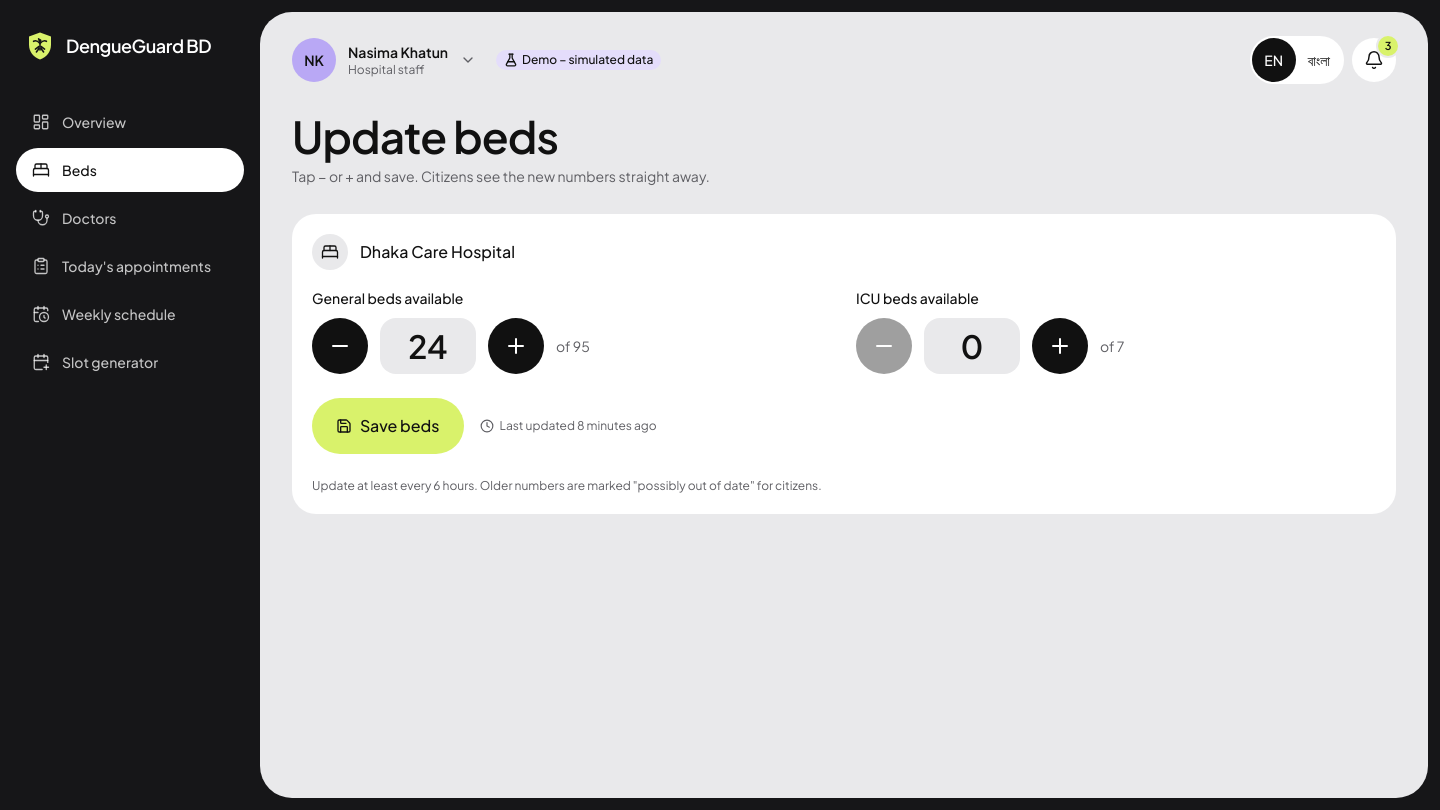
Test case: hospital bed update screen › updates beds in one tap + Save, and blocks values over the total
The image size is (1440, 810).
Click the button named "Increase ICU beds available" at {"x": 1060, "y": 346}, box [1032,318,1088,374]
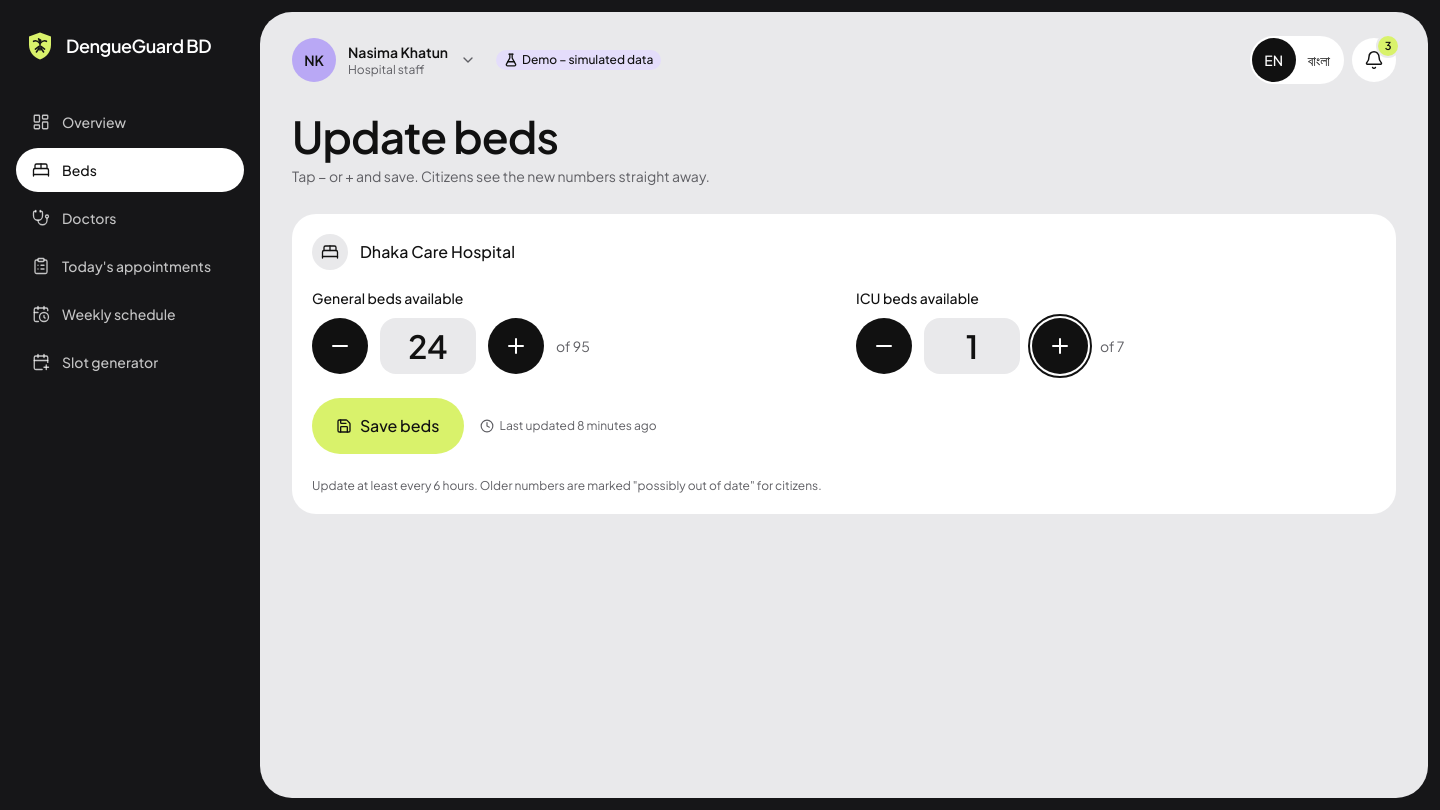
Now the field labelled "ICU beds available" holds "1", box [924,318,1020,374]
Click the button "Save beds" at {"x": 388, "y": 426}, box [312,398,464,454]
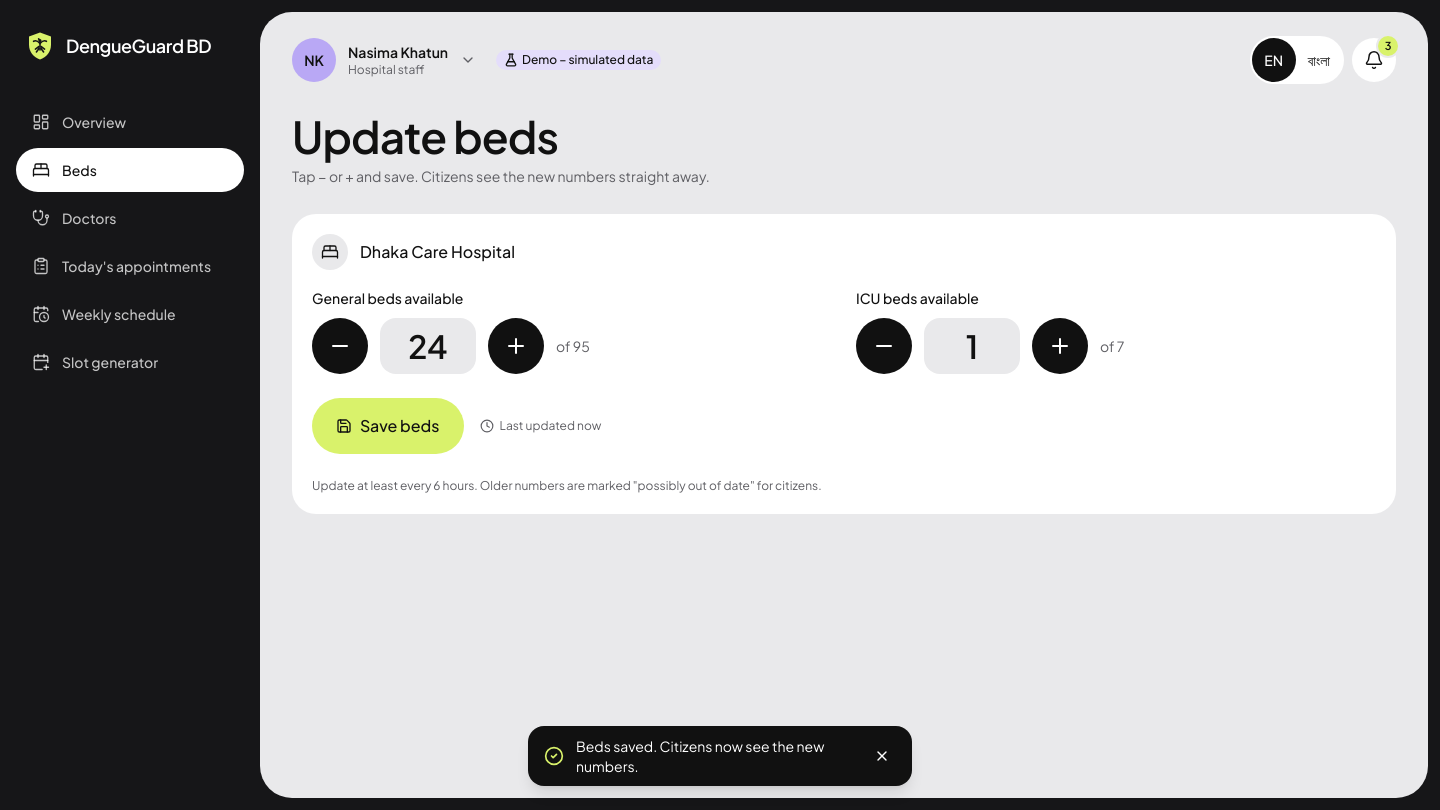
Now the text "Beds saved. Citizens now see the new numbers." is shown, box [576,736,848,776]
Replace the text in the field labelled "General beds available" with "9999" at {"x": 428, "y": 346}, box [380,318,476,374]
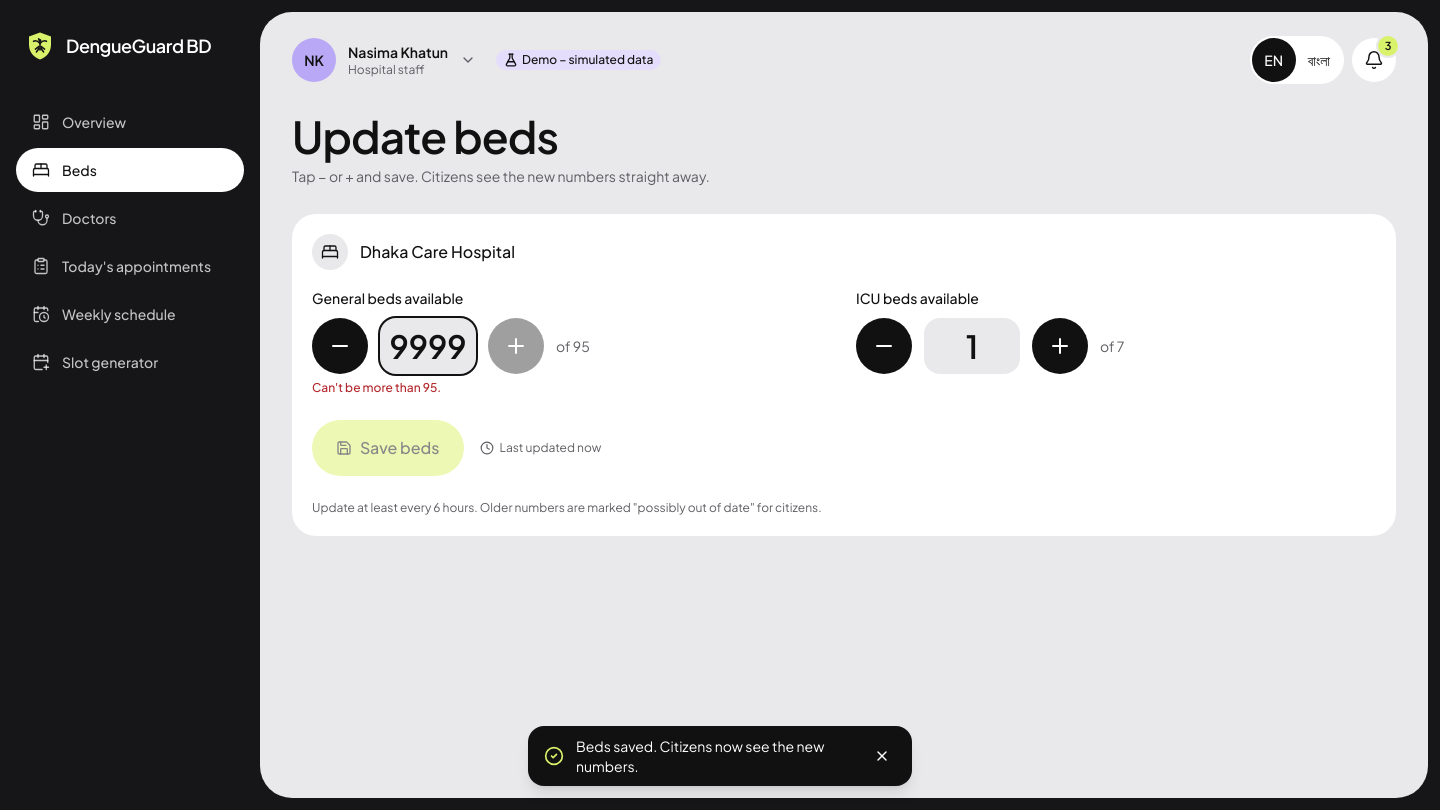
Now the button "Save beds" is disabled, box [312,420,464,476]
Now the text "Can't be more than 95." is shown, box [312,380,441,395]
